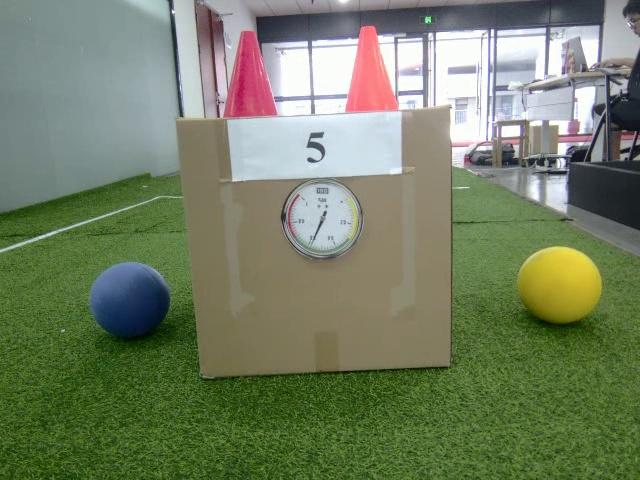5: (305, 130, 328, 165)
Dashboard: (281, 178, 364, 261)
blue_ball: (89, 262, 169, 339)
orange_barrel: (344, 26, 400, 113)
red_barrel: (222, 31, 280, 119)
ssi: (316, 187, 328, 194)
yellow_ball: (515, 245, 603, 324)
